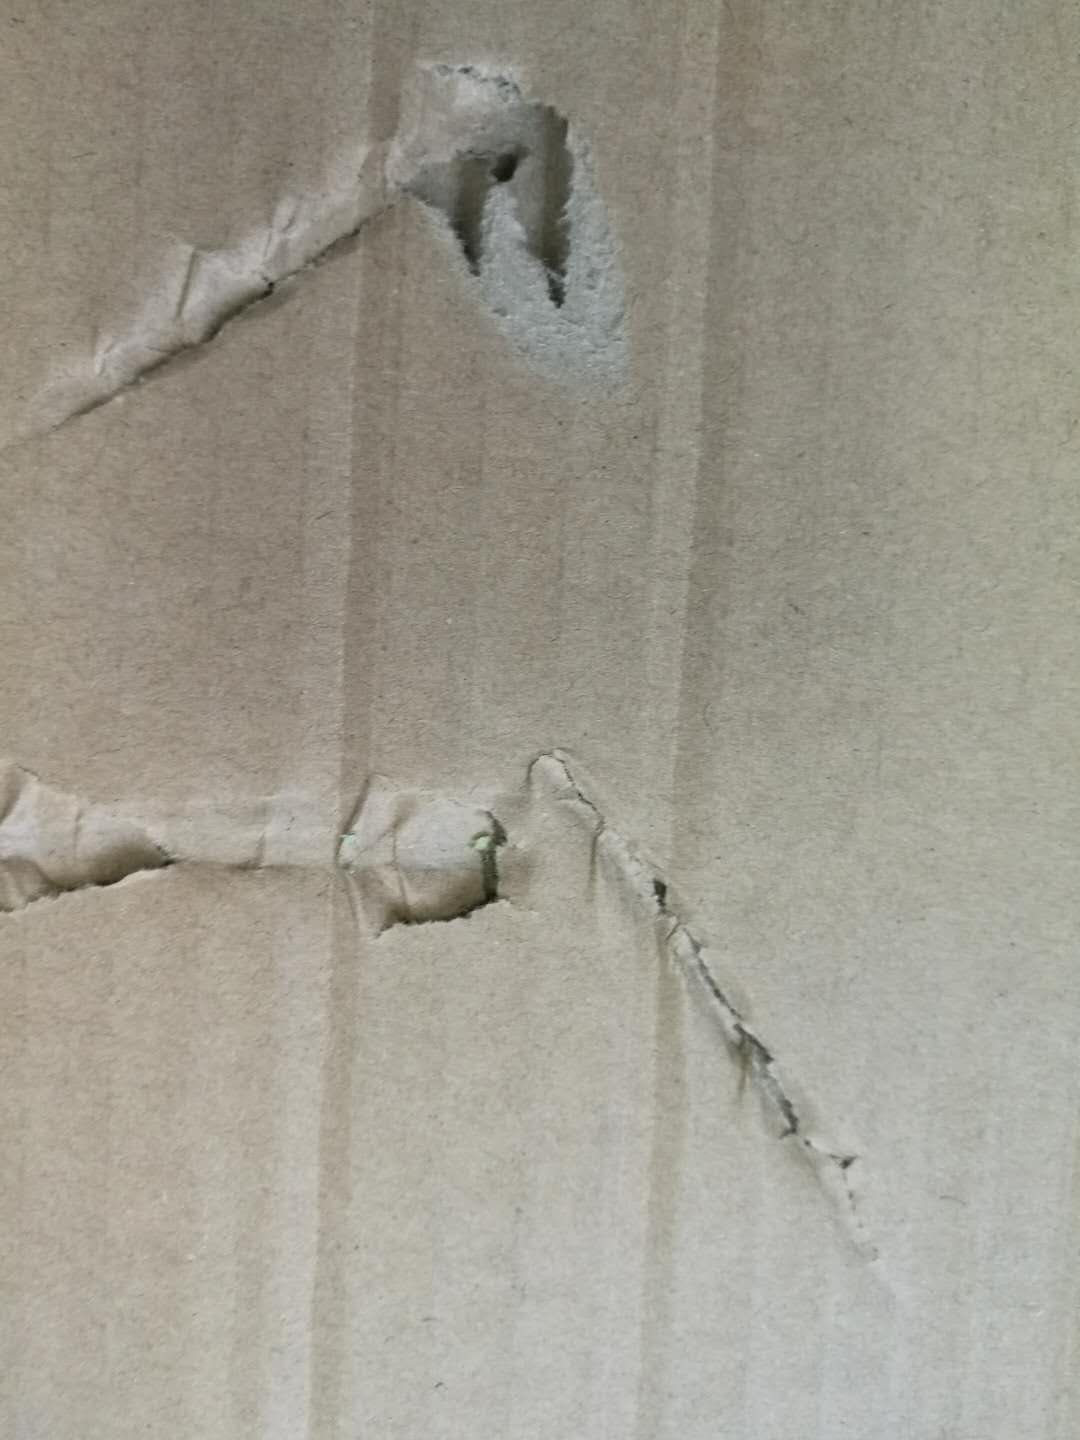defect: (3, 718, 943, 1338), (245, 1, 514, 1439), (6, 32, 674, 472), (599, 5, 802, 1439)
